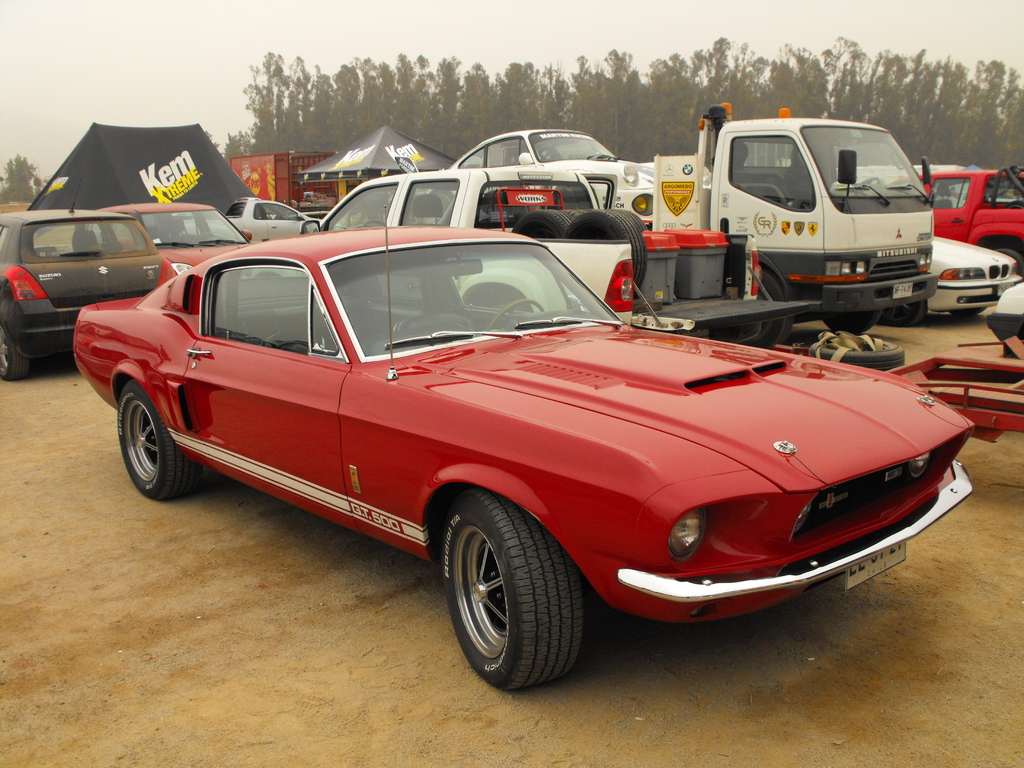car: (71, 223, 987, 679), (297, 152, 840, 351), (1, 205, 175, 383), (124, 182, 272, 299), (916, 229, 1018, 332), (225, 184, 332, 252)
truck: (656, 97, 947, 326)
